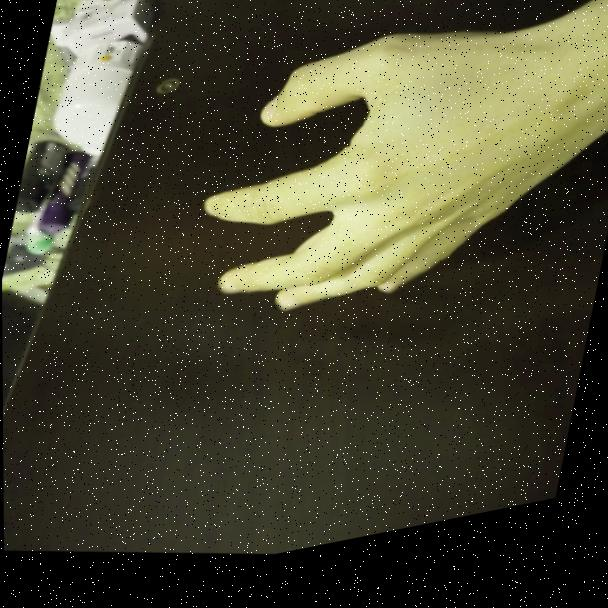five: (166, 0, 522, 386)
